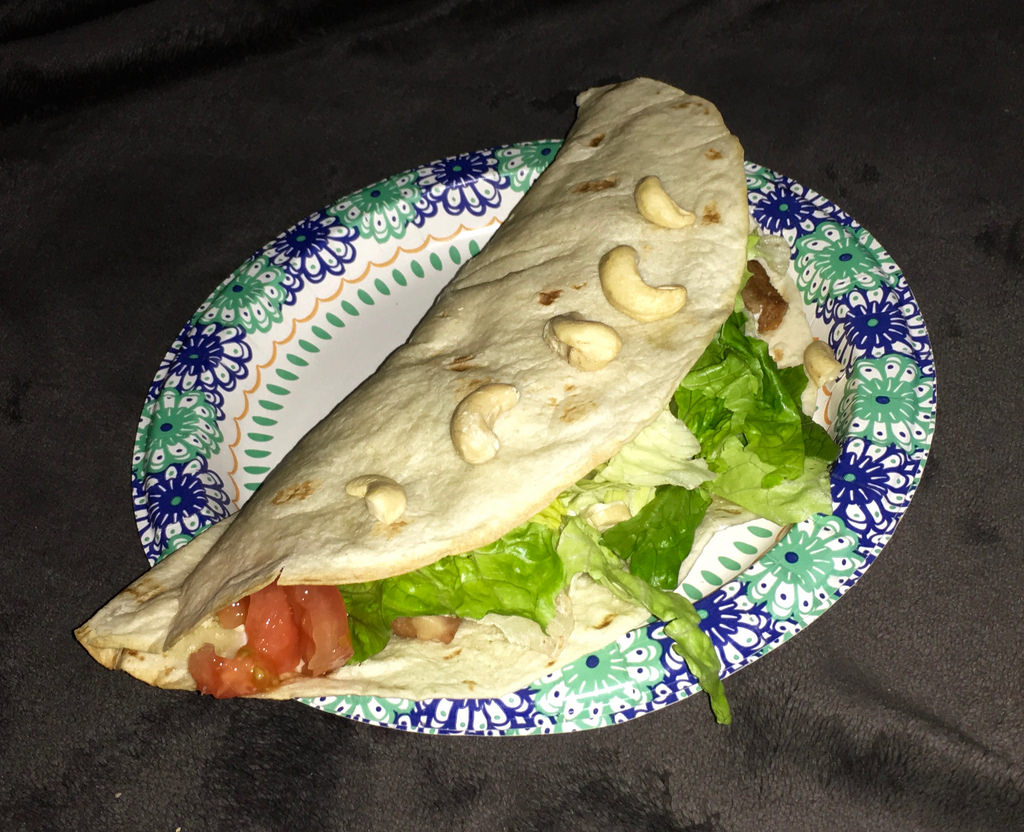chopped lettuce: (719, 357, 793, 498)
